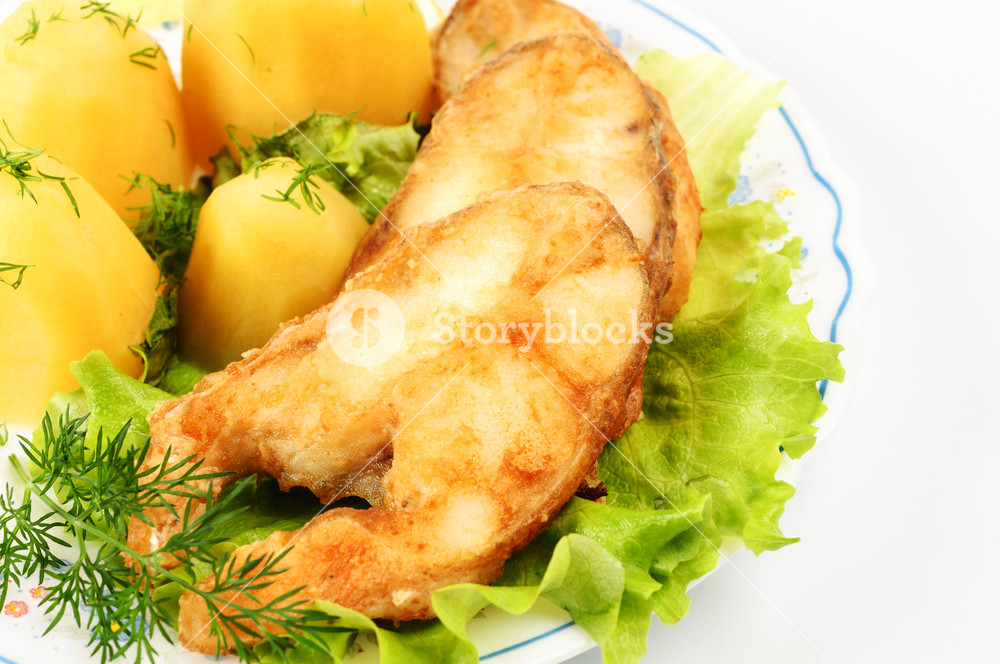boiled potatoes: (25, 42, 330, 294)
